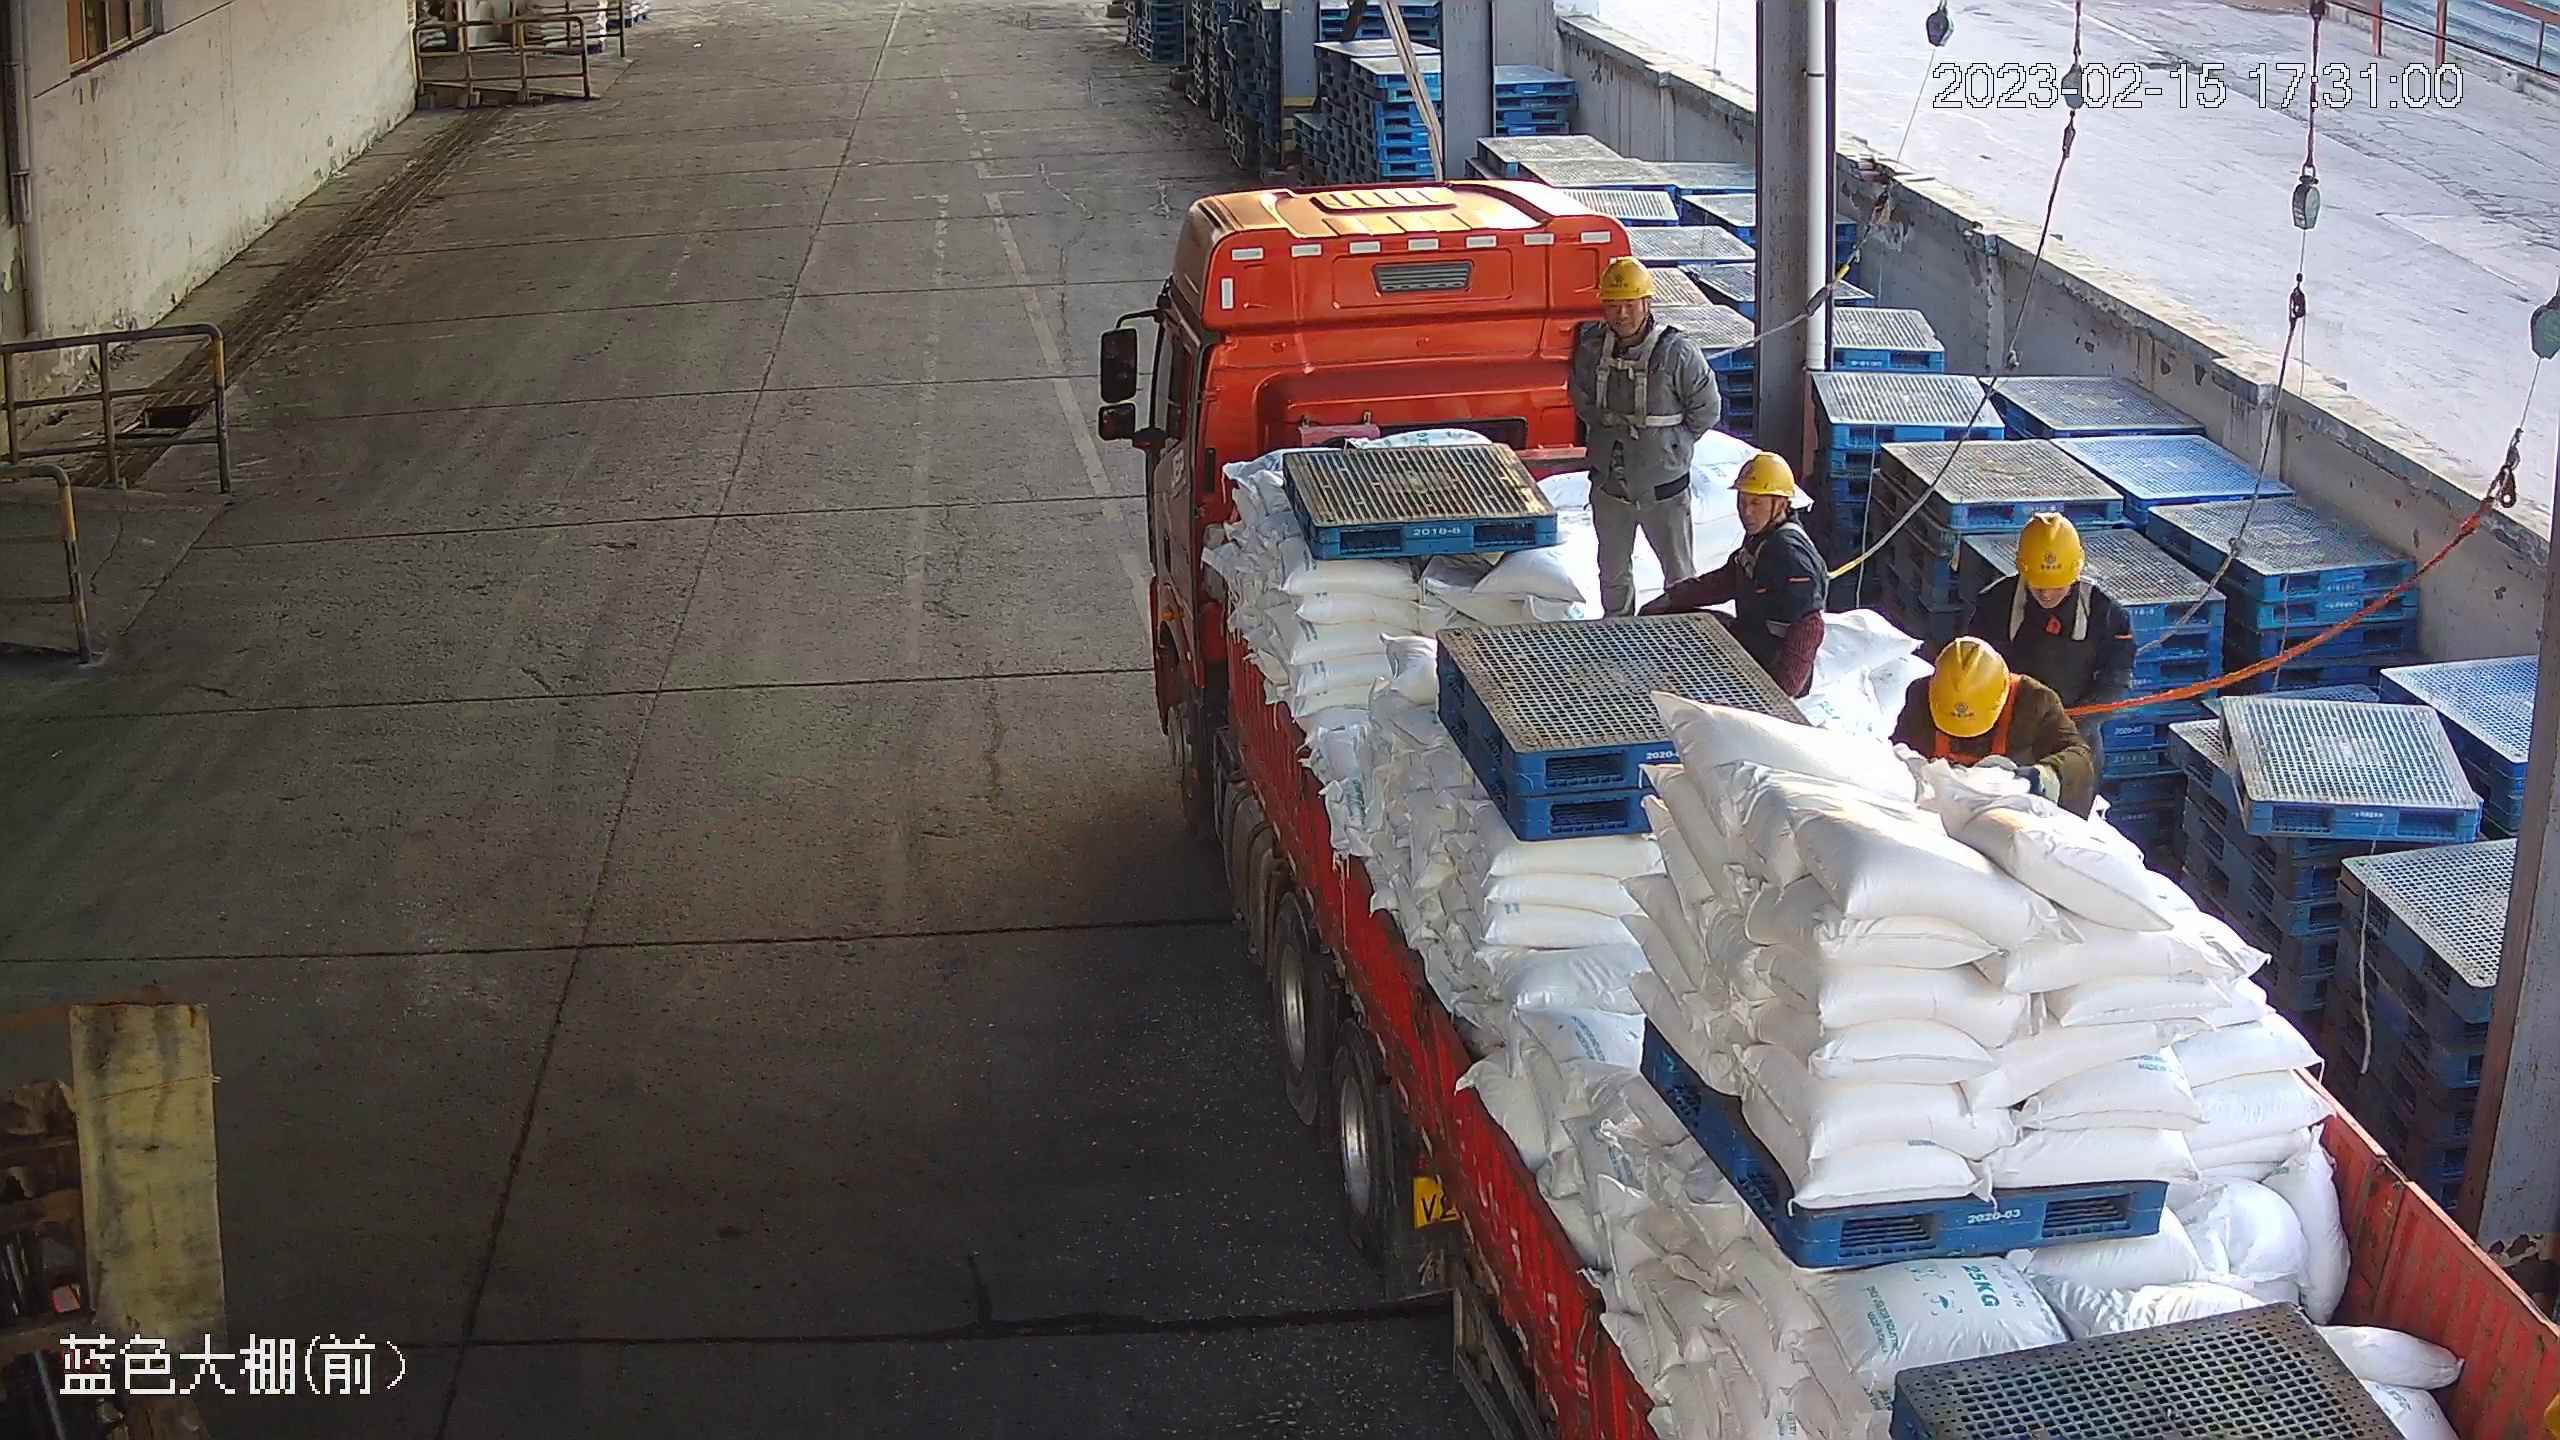belt: (1918, 673, 2111, 775), (1729, 522, 1856, 643), (1583, 321, 1718, 431), (2003, 569, 2148, 665)
head: (1973, 510, 2136, 640), (1568, 256, 1706, 367), (1900, 632, 2071, 716), (1730, 451, 1830, 577)
helmet: (1925, 632, 2012, 737), (2013, 511, 2087, 591), (1730, 450, 1797, 498), (1599, 255, 1658, 303)
people: (1562, 256, 1722, 622), (1639, 452, 1832, 701), (1971, 511, 2136, 763)
truck: (1145, 177, 2560, 1440)
